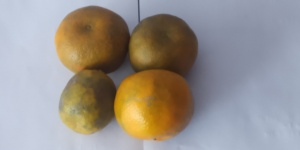BAD: (115, 70, 196, 140), (55, 6, 129, 74), (130, 14, 199, 73), (61, 71, 115, 138)
